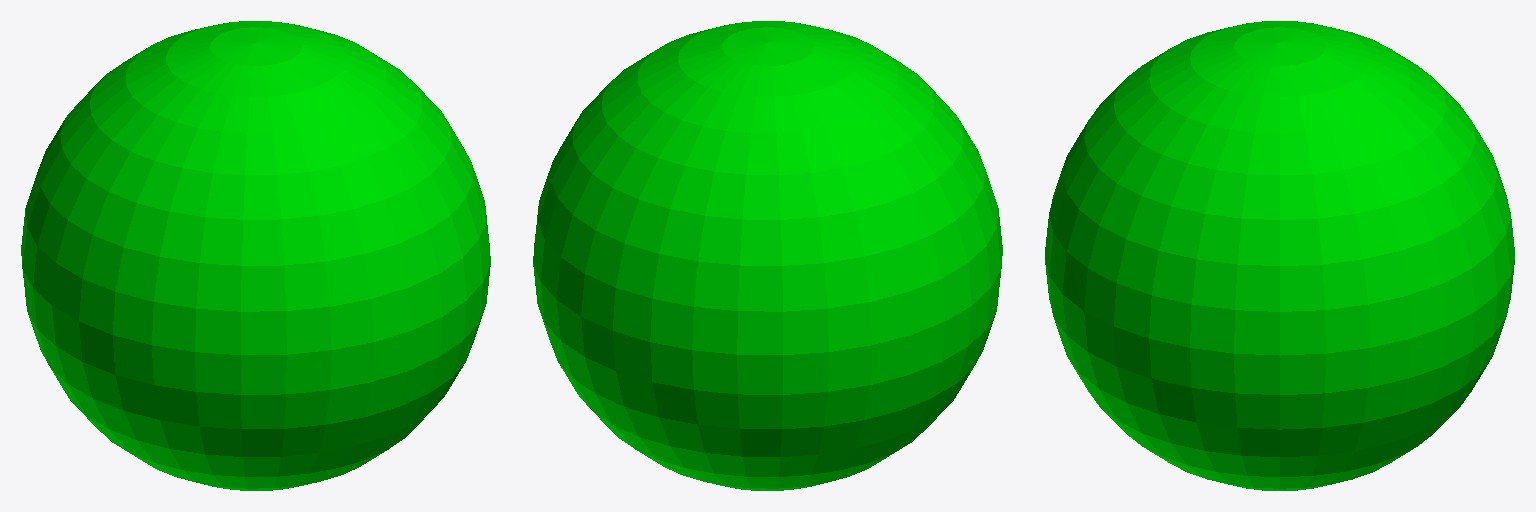
Rendered from Ball.obj.
3 renders of one model, left to right at view 1: azimuth 30°, elevation 25°; view 2: azimuth 150°, elevation 25°; view 3: azimuth 270°, elevation 25°, orthographic.
Visible parts, largest first — view 1: Sphere; view 2: Sphere; view 3: Sphere.
Boxes of the visible parts, x1=… form: Sphere: x1=21, y1=21, x2=490, y2=490; Sphere: x1=533, y1=21, x2=1002, y2=490; Sphere: x1=1045, y1=21, x2=1514, y2=490.
Size of the model in its own units: 2 by 2 by 2.